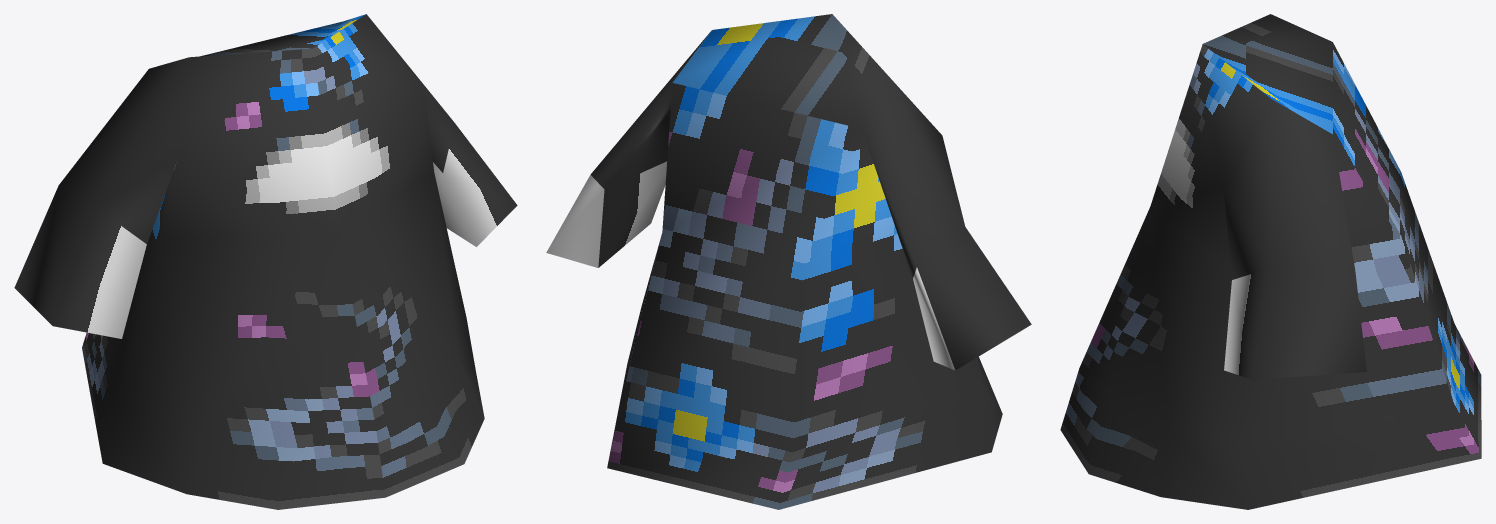
3 renders of one model, left to right at view 1: azimuth 30°, elevation 25°; view 2: azimuth 150°, elevation 25°; view 3: azimuth 270°, elevation 25°, orthographic. The views are drawn at different scales.
Parts seen in each view (by area): view 1: 2562dress000_r; view 2: 2562dress000_r; view 3: 2562dress000_r.
Part boxes in pixels (<box>): 2562dress000_r: <box>14,14,517,509</box>; 2562dress000_r: <box>546,14,1031,509</box>; 2562dress000_r: <box>1060,14,1481,509</box>.
Bounding box in the file's own units: 1.09 × 0.8945 × 0.8848.
Materials: 1 (1 with a texture image).
